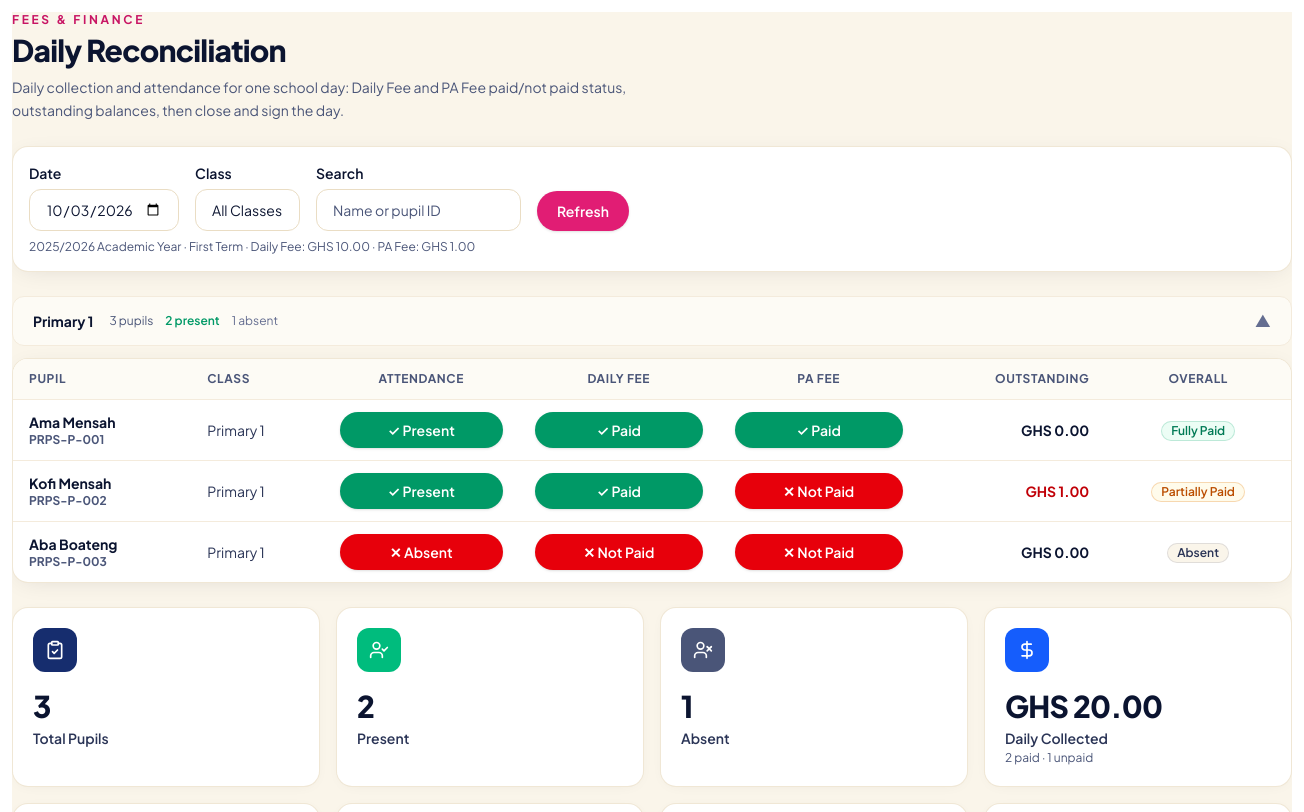
Test: ReconciliationPage › updates Present and Absent summary cards when attendance is toggled
The width and height of the screenshot is (1304, 812).
Check: the text "2" is shown, box [357,686,374,724]
Check: the text "1" is shown, box [681,686,693,724]
Click the button with aria-label "Mark Ama Mensah absent" at (421, 430), box [340,412,503,448]
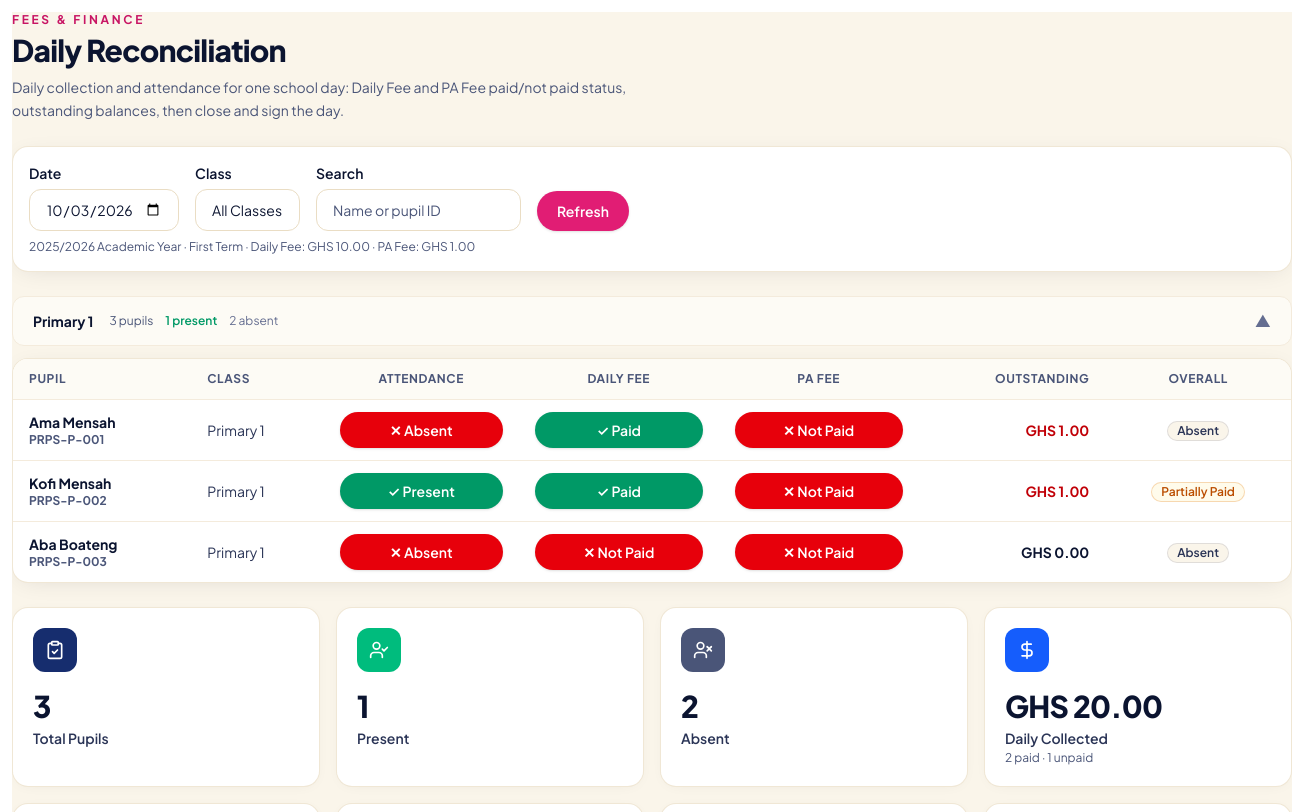
Check: the text "1" is shown, box [357,686,369,724]
Check: the text "2" is shown, box [681,686,698,724]
